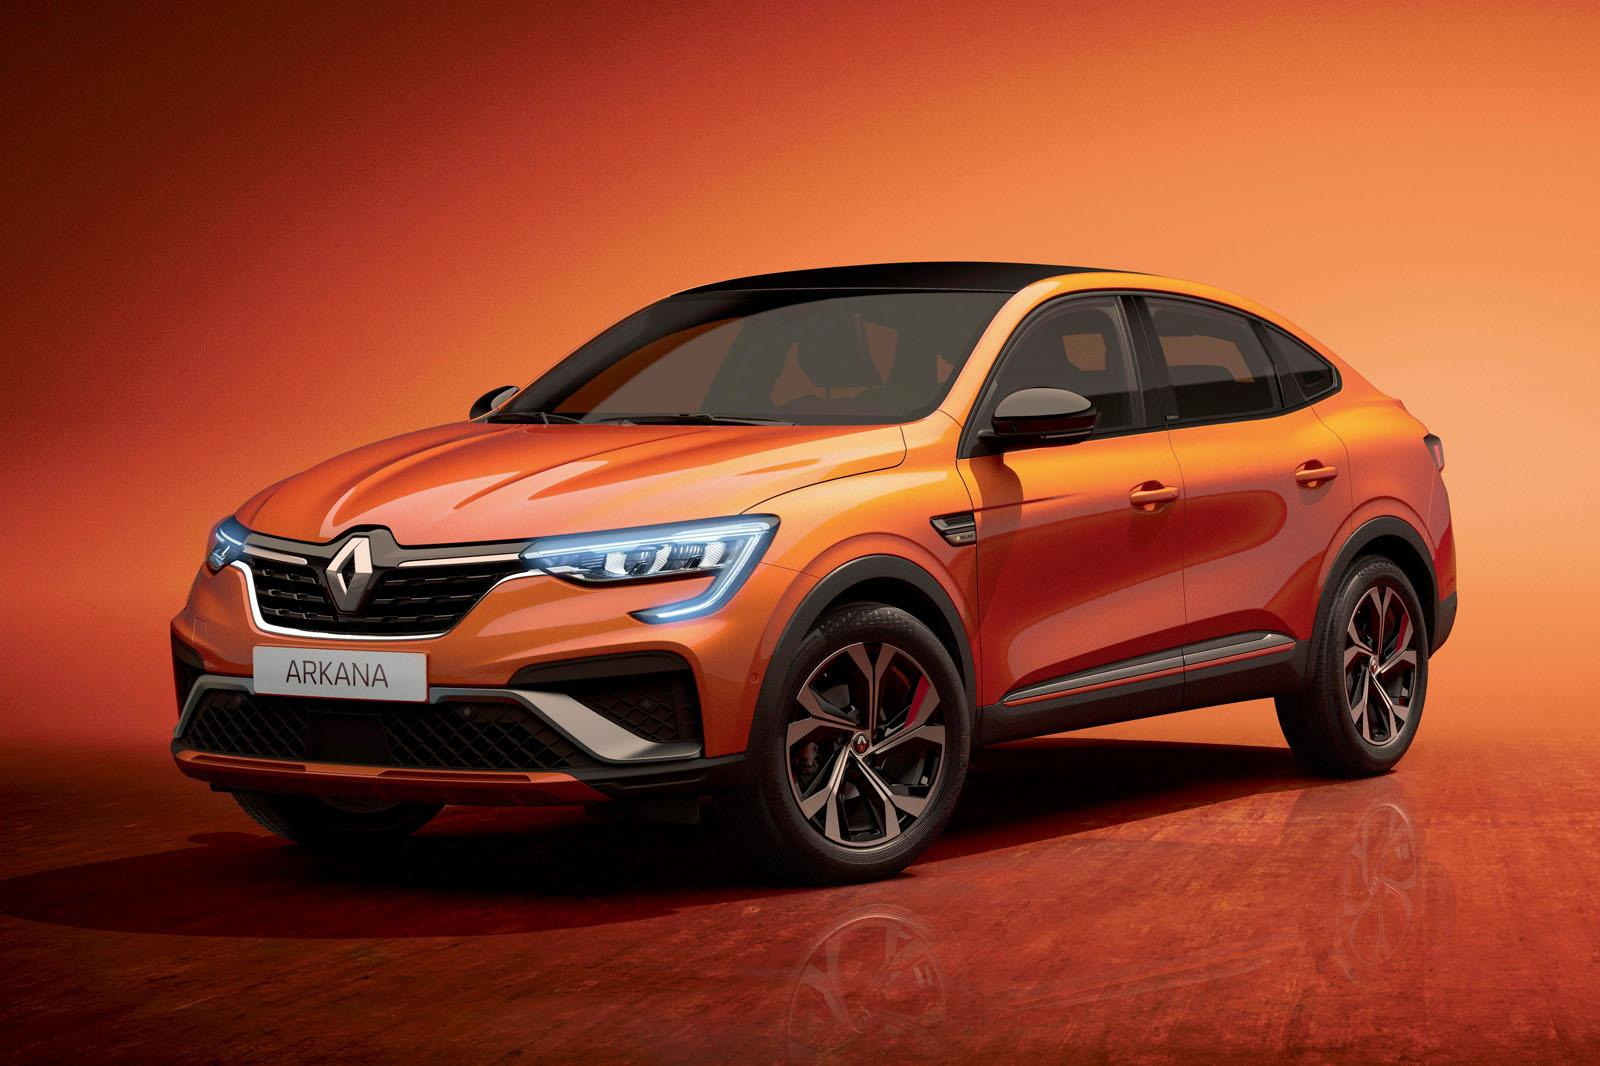car: (157, 244, 1470, 875)
